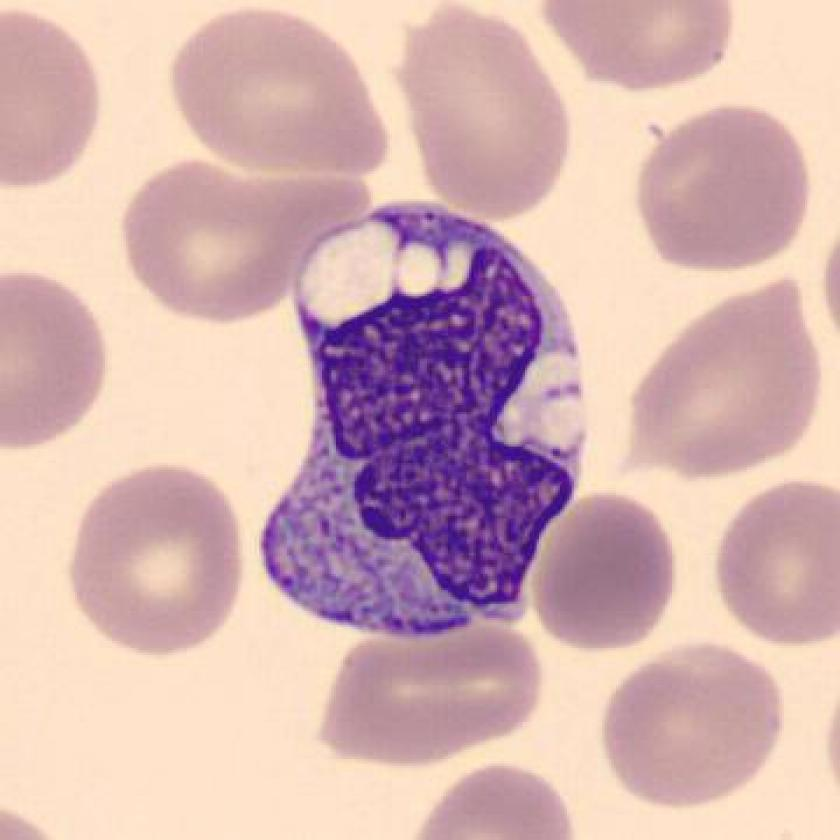monocyte: (241, 184, 608, 656)
